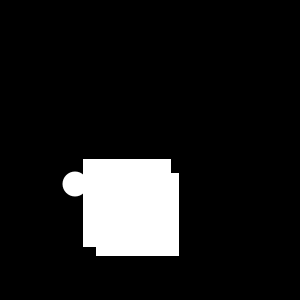circle: (83, 159, 171, 247), (96, 173, 179, 256)
rectangle: (62, 172, 88, 196), (154, 174, 170, 190)
